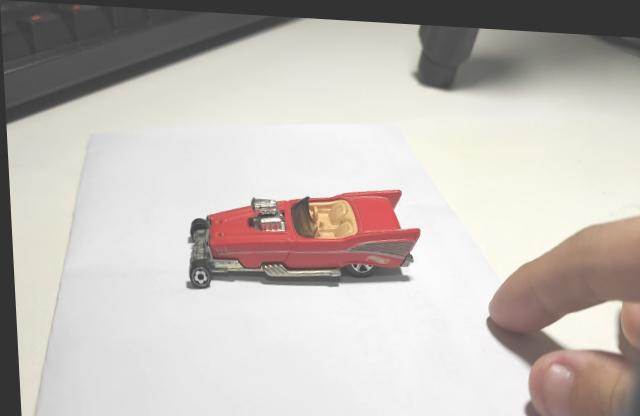03_V8: (182, 185, 419, 289)
